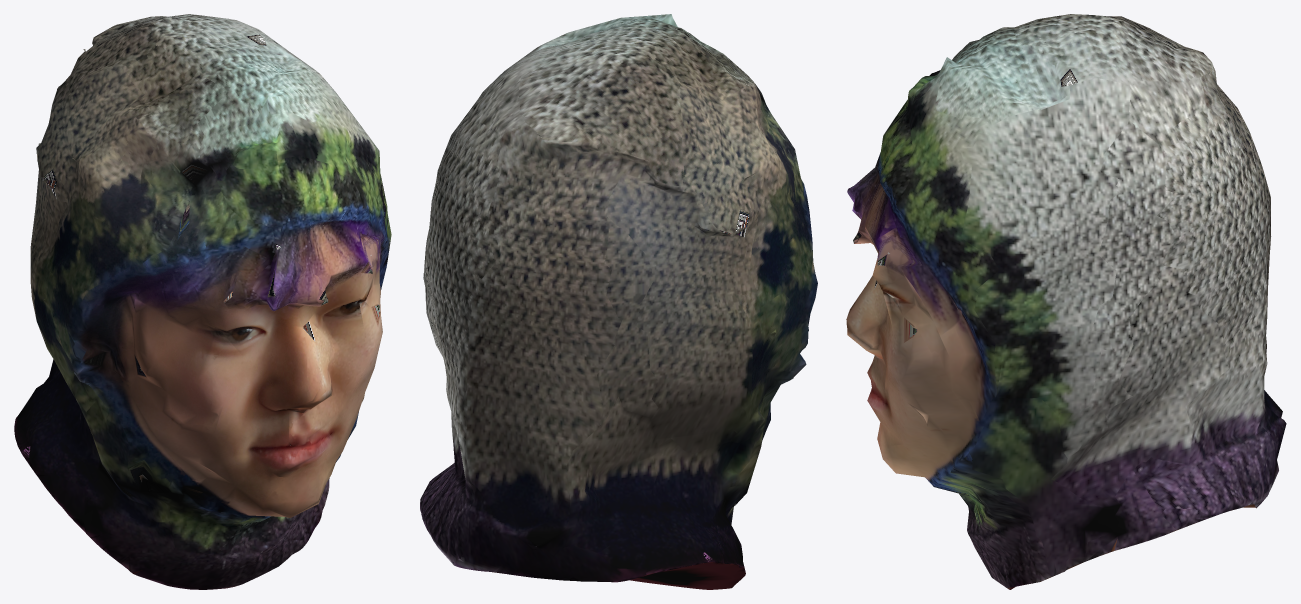
Rendered from Head.glb.
3 views of the same model, side by side, from view 1: azimuth 30°, elevation 25°; view 2: azimuth 150°, elevation 25°; view 3: azimuth 270°, elevation 25° (orthographic). The views are drawn at different scales.
Parts seen in each view (by area): view 1: mesh; view 2: mesh; view 3: mesh.
Part boxes in pixels (<box>): mesh: <box>14,14,391,589</box>; mesh: <box>420,14,817,589</box>; mesh: <box>846,14,1286,589</box>.
Size of the model in its own units: 0.1894 by 0.3101 by 0.2268.
1 material, 1 textured.
